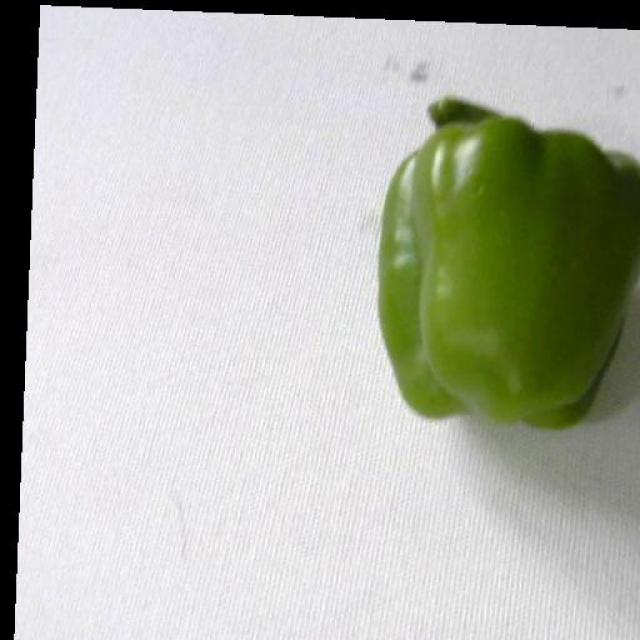Fresh_Capsicum: (365, 120, 640, 394)
